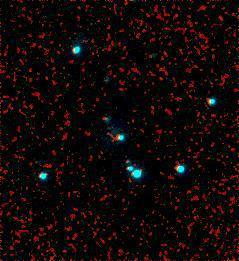star: (110, 139, 140, 169)
